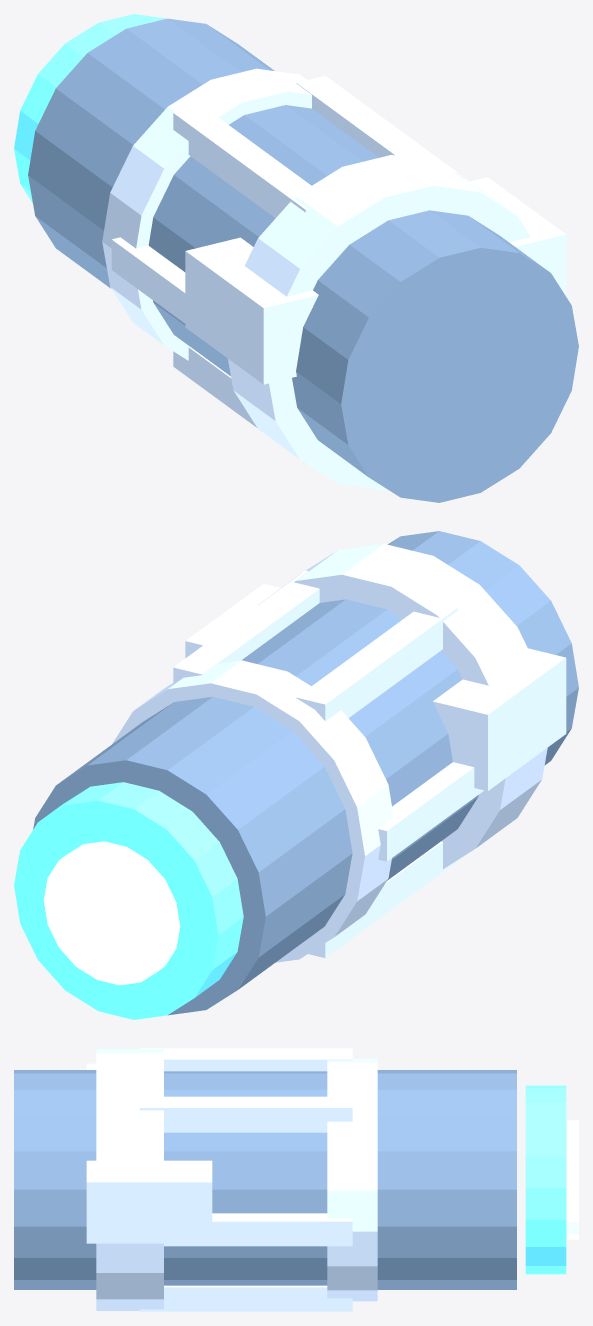
File: thr-1.glb
3 views of the same model, one above another, from view 1: azimuth 30°, elevation 25°; view 2: azimuth 150°, elevation 25°; view 3: azimuth 270°, elevation 25° (orthographic). The views are drawn at different scales.
Visible parts, largest first — view 1: body_0, band_0, bridge, band_back_0, fin_0_2, nozzle_0, fin_0_1, fin_0_3, fin_0_4; view 2: body_0, nozzle_0, band_0, band_back_0, core_0, bridge, fin_0_2, fin_0_1, fin_0_3, fin_0_4; view 3: body_0, band_0, band_back_0, bridge, nozzle_0, fin_0_1, fin_0_0, fin_0_5, fin_0_2, core_0.
Boxes of the visible parts, bbox=[...] form: body_0: bbox=[28, 18, 578, 502]; band_0: bbox=[228, 155, 530, 489]; bridge: bbox=[185, 177, 566, 384]; band_back_0: bbox=[102, 68, 311, 360]; fin_0_2: bbox=[173, 105, 311, 218]; nozzle_0: bbox=[14, 14, 166, 203]; fin_0_1: bbox=[296, 75, 457, 175]; fin_0_3: bbox=[111, 237, 185, 323]; fin_0_4: bbox=[173, 347, 256, 427]; body_0: bbox=[33, 531, 578, 1015]; nozzle_0: bbox=[14, 782, 243, 1019]; band_0: bbox=[258, 544, 547, 868]; band_back_0: bbox=[112, 660, 393, 962]; core_0: bbox=[43, 841, 180, 985]; bridge: bbox=[185, 584, 566, 791]; fin_0_2: bbox=[296, 607, 457, 721]; fin_0_1: bbox=[173, 570, 319, 683]; fin_0_3: bbox=[378, 762, 483, 861]; fin_0_4: bbox=[308, 841, 457, 958]; body_0: bbox=[14, 1070, 516, 1289]; band_0: bbox=[96, 1049, 163, 1310]; band_back_0: bbox=[327, 1058, 377, 1301]; bridge: bbox=[86, 1063, 212, 1243]; nozzle_0: bbox=[525, 1085, 566, 1274]; fin_0_1: bbox=[139, 1096, 352, 1132]; fin_0_0: bbox=[164, 1213, 352, 1246]; fin_0_5: bbox=[139, 1285, 352, 1311]; fin_0_2: bbox=[139, 1048, 352, 1071]; core_0: bbox=[567, 1120, 578, 1239].
Size of the model in its own units: 1.45 by 1.34 by 2.92.
